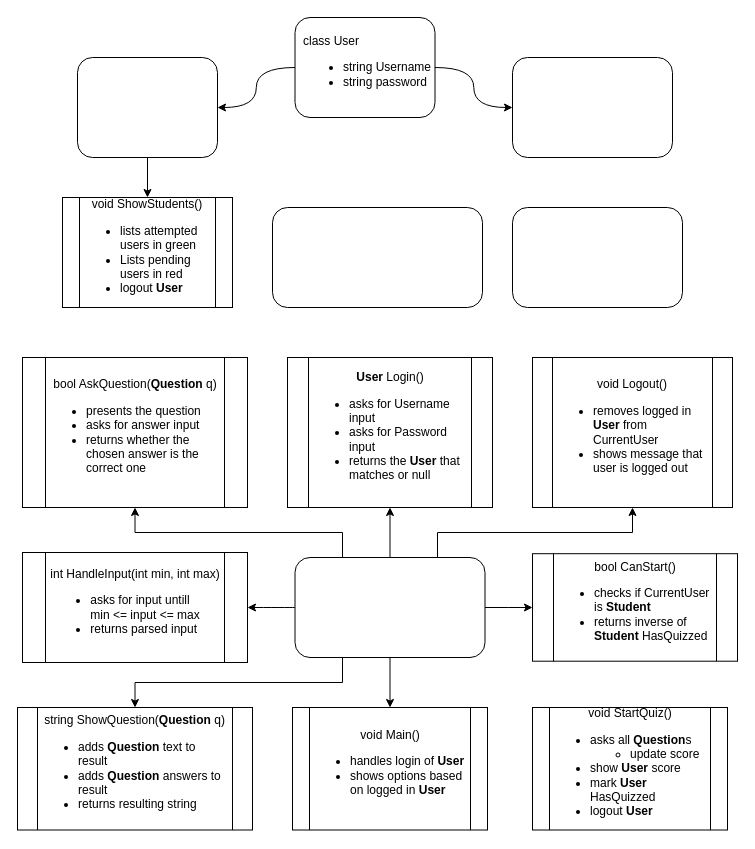
The diagram is 755 pixels wide and 849 high, and some of its shapes have lost their labels. The box of each missing label's shape, as (x1, y1, x2, y2) in pixels:
class Question string Text List<string> Answers string correctAnswer: (512, 206, 682, 308)
class Quiz Repository QuizRepo User CurrentUser: (294, 556, 485, 658)
class Repository List< Question > Questions List< Users > Users: (272, 206, 482, 308)
class Student : User bool HasQuizzed int Score: (512, 56, 672, 158)
class Teacher : User: (76, 56, 218, 158)
